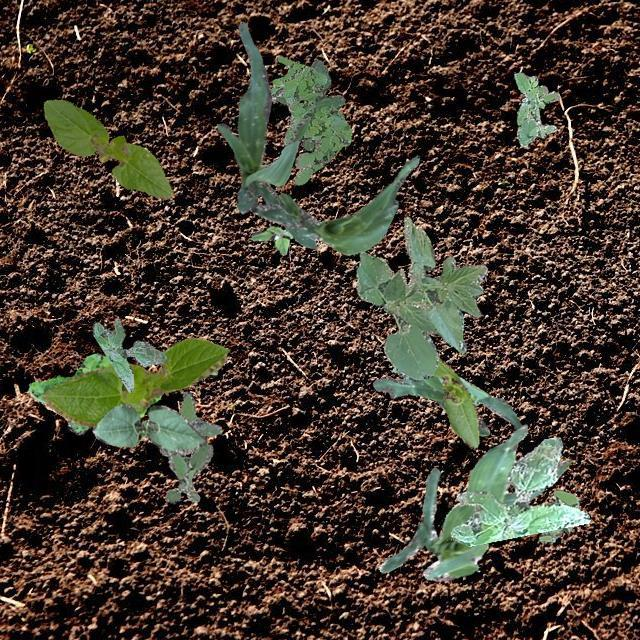crop: (378, 424, 570, 580), (216, 21, 316, 248), (356, 216, 486, 380), (42, 336, 228, 426), (250, 156, 418, 254), (44, 99, 172, 198), (372, 374, 520, 434), (91, 402, 206, 454), (432, 356, 478, 446), (208, 368, 216, 376)
weed: (450, 436, 590, 546), (28, 352, 160, 434), (268, 54, 350, 184), (140, 390, 220, 502), (276, 59, 344, 150), (91, 318, 166, 390), (514, 70, 558, 146), (538, 488, 578, 542), (250, 224, 292, 253)
